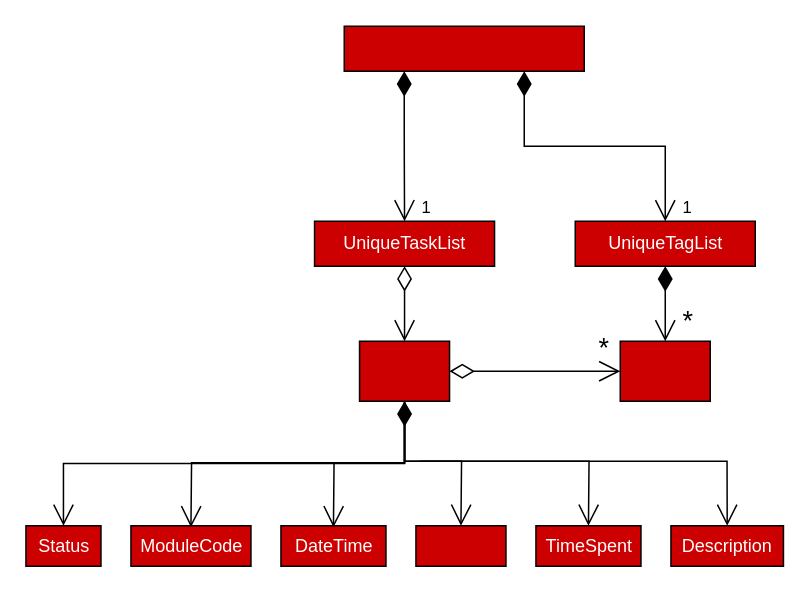
Some shapes in this 810 by 593 pixel diagram are drawn without their labels. Each missing label, with the centre of its shape:
"JelphaBot" belongs at (463,48).
"Priority" belongs at (460,545).
"Tag" belongs at (664,370).
"Task" belongs at (404,370).
